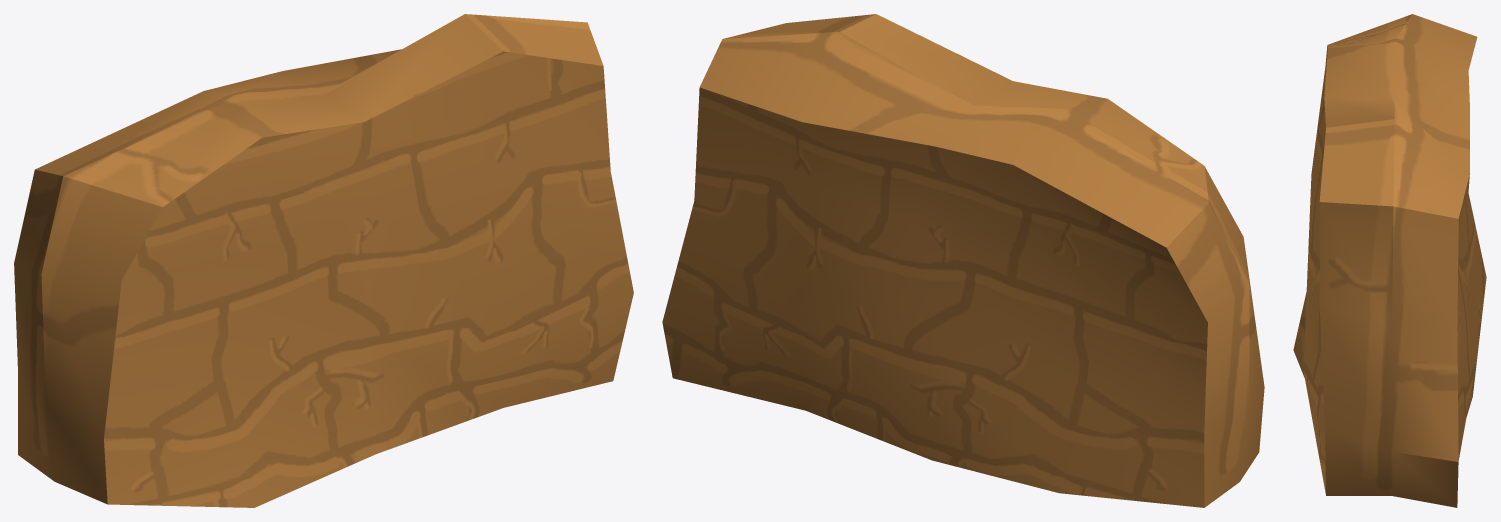
File: Wall2.fbx
3 views of the same model, side by side, from view 1: azimuth 30°, elevation 25°; view 2: azimuth 150°, elevation 25°; view 3: azimuth 270°, elevation 25° (orthographic). The views are drawn at different scales.
Visible parts, largest first — view 1: Wall2; view 2: Wall2; view 3: Wall2.
Boxes of the visible parts, x1,y1,x2,y2 form: Wall2: [14, 14, 633, 507]; Wall2: [662, 14, 1264, 507]; Wall2: [1293, 14, 1486, 507].
Size of the model in its own units: 6.73 by 4.36 by 2.2.
